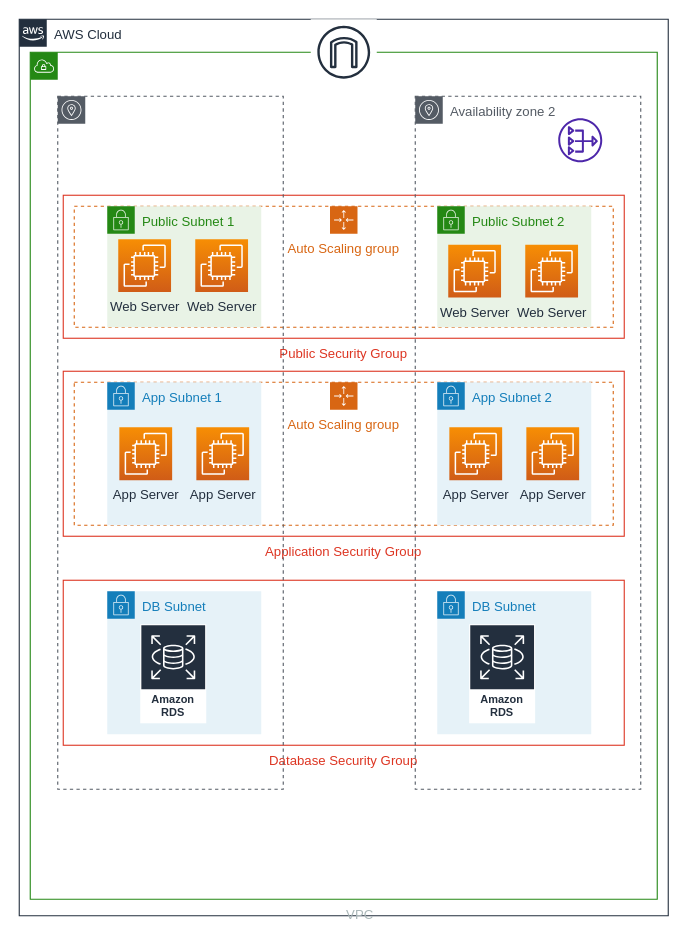
Image size: 688x942. Some labels were removed from this diagram. The centre of each missing label's shape, as x and y in pixels:
Availability zone 1: [170,442]
Internet gateway: [343,51]
Nat Gateway: [580,140]
